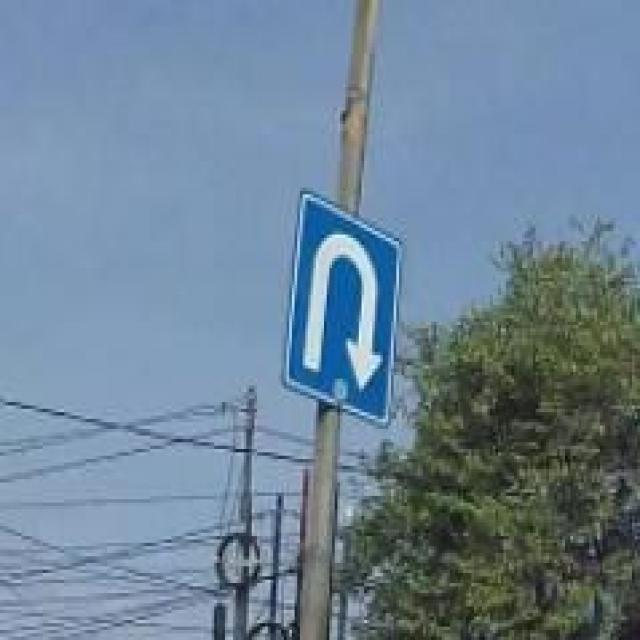traffic sign: (289, 188, 402, 430)
